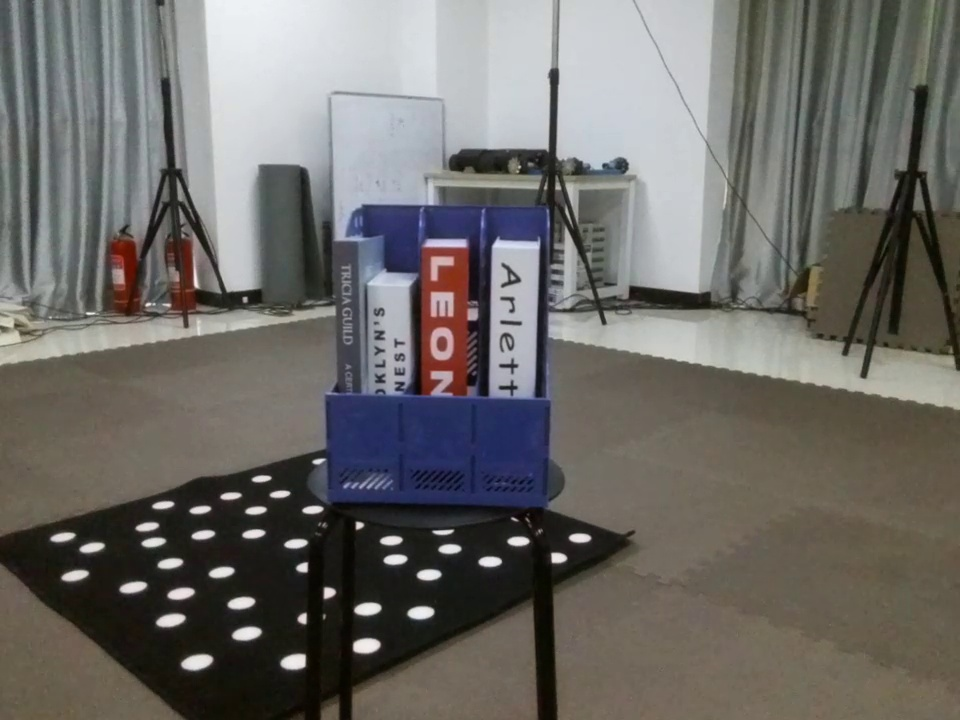files: (320, 188, 560, 516)
